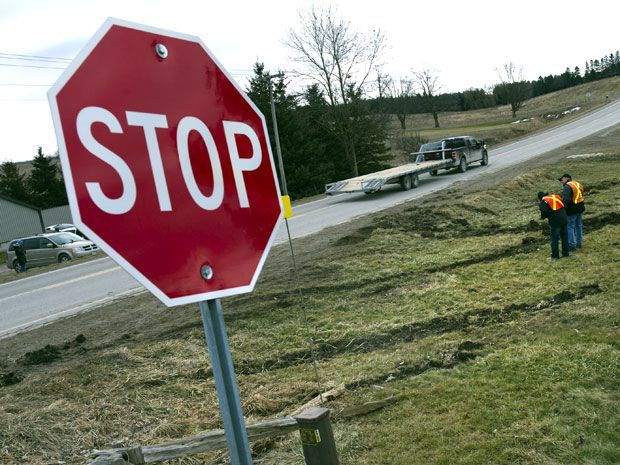stop: (49, 21, 279, 302), (125, 21, 279, 302), (45, 20, 282, 175)
